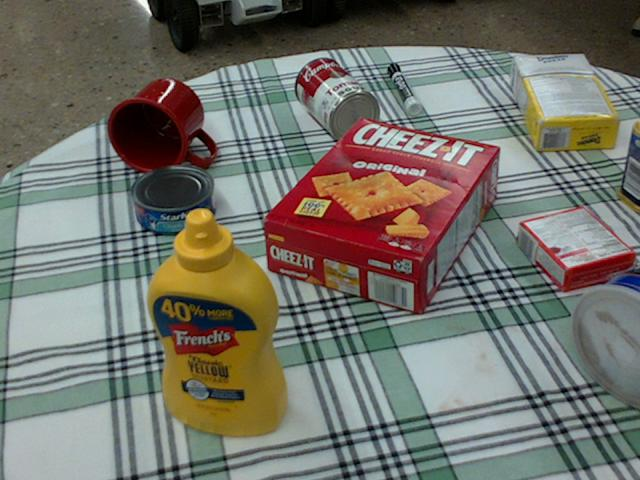cracker_box: (262, 118, 503, 313)
gelatin_box: (517, 205, 633, 288)
large_marker: (387, 63, 420, 113)
master_chef_can: (573, 262, 639, 407)
mug: (107, 77, 214, 173)
mustard_bottle: (146, 207, 288, 434)
potted_meat_can: (615, 119, 639, 213)
sugar_box: (510, 54, 621, 151)
tomato_soup_can: (294, 56, 379, 140)
tuna_fish_can: (128, 164, 214, 233)
